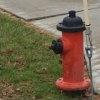a fire hydrant: (56, 12, 86, 92)
